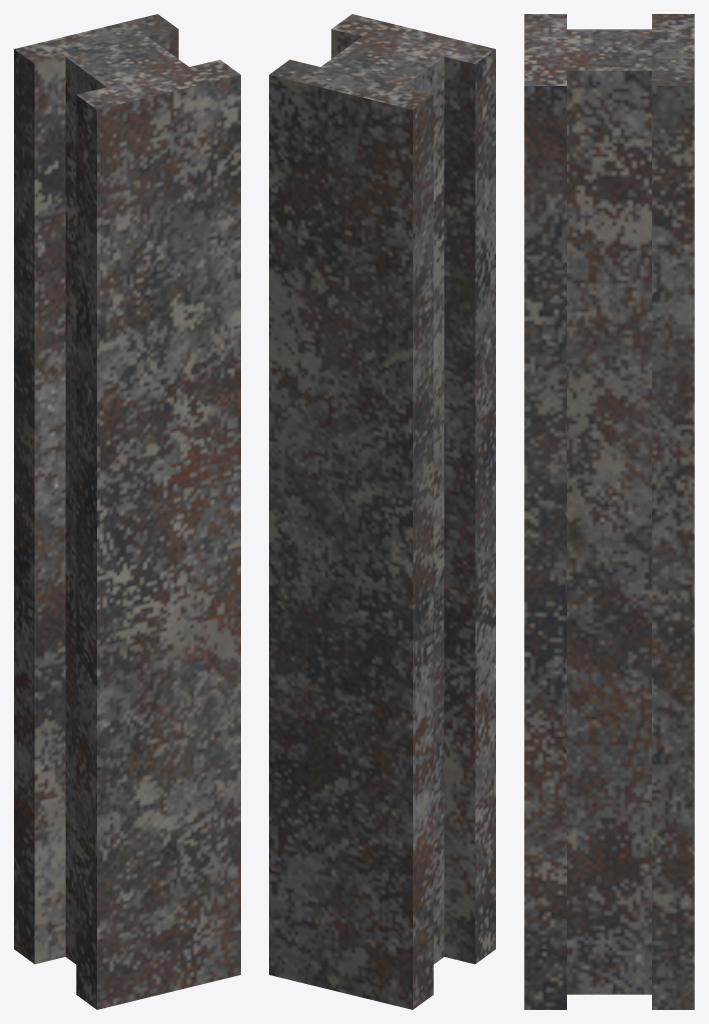
The model's file is Strut.fbx.
3 views of the same model, side by side, from view 1: azimuth 30°, elevation 25°; view 2: azimuth 150°, elevation 25°; view 3: azimuth 270°, elevation 25° (orthographic). The views are drawn at different scales.
Visible parts, largest first — view 1: Strut; view 2: Strut; view 3: Strut.
Boxes of the visible parts, x1=… form: Strut: x1=14, y1=14, x2=240, y2=1009; Strut: x1=269, y1=14, x2=495, y2=1009; Strut: x1=524, y1=14, x2=694, y2=1009.
Bounding box in the file's own units: 200 × 1196 × 200.
Materials: 1 (1 with a texture image).
